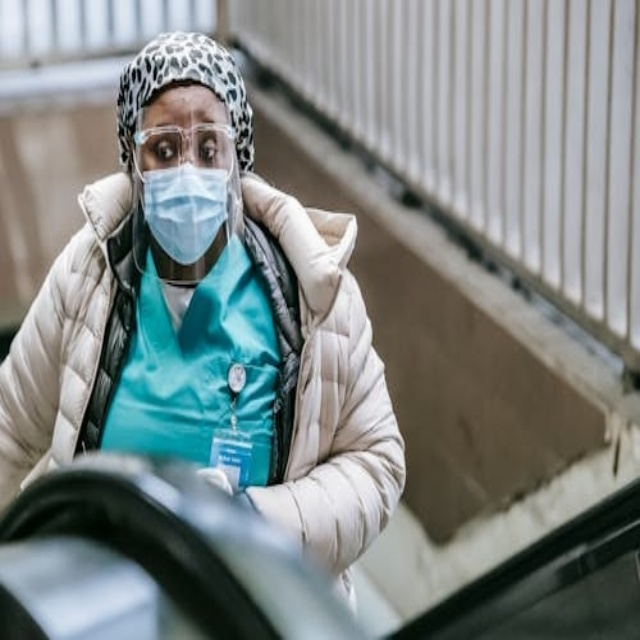Gafas: (133, 119, 239, 176)
Mascara: (137, 143, 233, 263)
